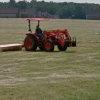Tractor: (17, 10, 80, 59)
